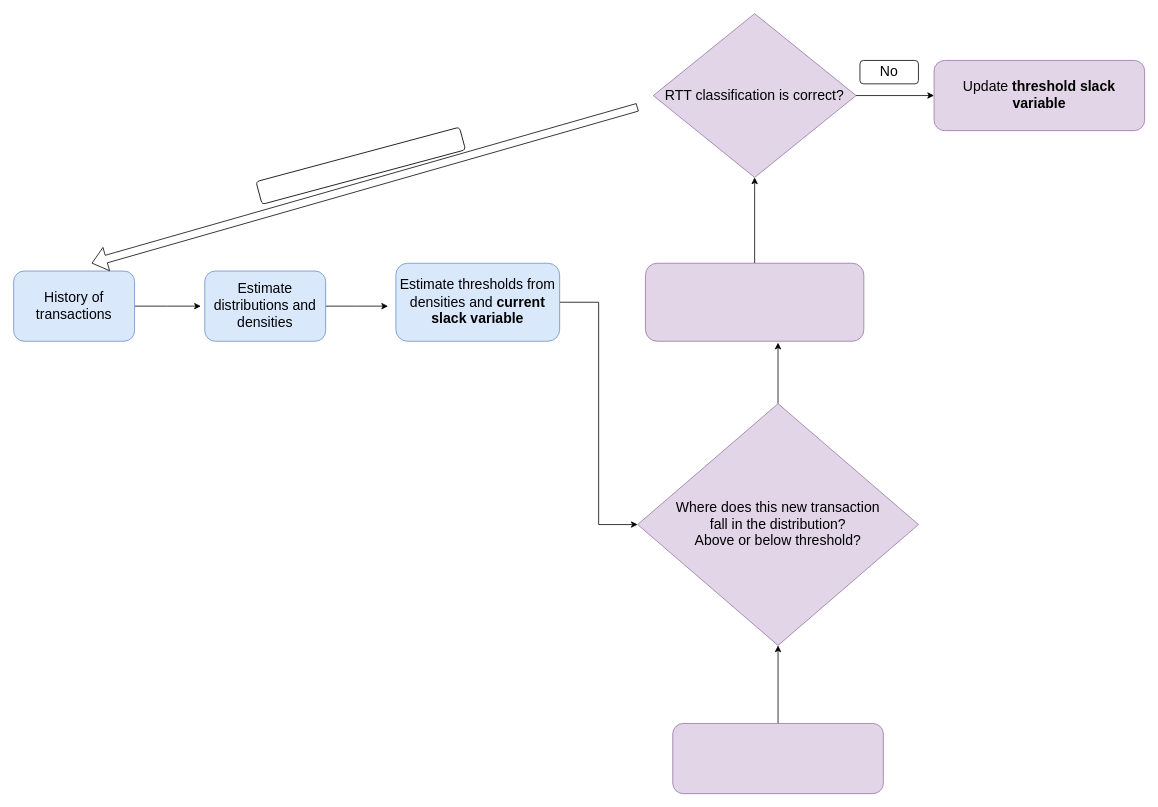
Image size: 1158x807. Some labels were removed from this diagram. Here are the shapes that lost their labels. From the top down, the box of each, then its label:
(255, 126, 466, 204): Add current transaction to history
(645, 262, 864, 341): Get invoice approver feedback
(672, 723, 883, 794): Look at a new transaction between a vendor and a buyer
